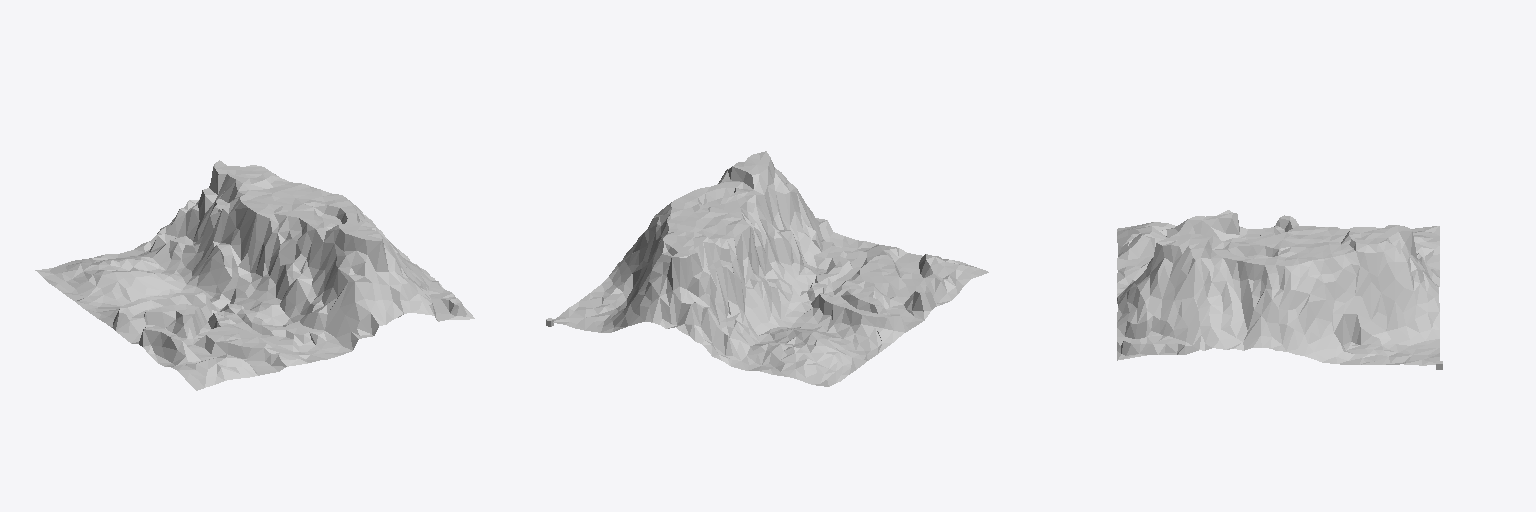
Rendered from PlayerPlace.obj.
3 views of the same model, side by side, from view 1: azimuth 30°, elevation 25°; view 2: azimuth 150°, elevation 25°; view 3: azimuth 270°, elevation 25° (orthographic).
Parts seen in each view (by area): view 1: 1.001; view 2: 1.001; view 3: 1.001.
Boxes of the visible parts, x1=… form: 1.001: x1=35, y1=160, x2=474, y2=390; 1.001: x1=553, y1=151, x2=988, y2=386; 1.001: x1=1117, y1=210, x2=1439, y2=365.
Size of the model in its own units: 101 by 30.61 by 101.